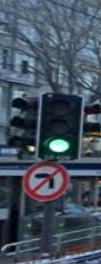greenlight: (40, 93, 78, 156)
leftturnsareforbidden: (24, 161, 69, 200)
